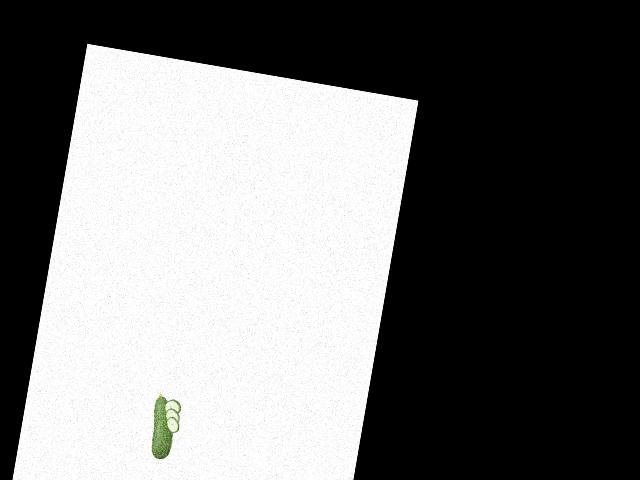cucumber: (146, 392, 180, 461)
